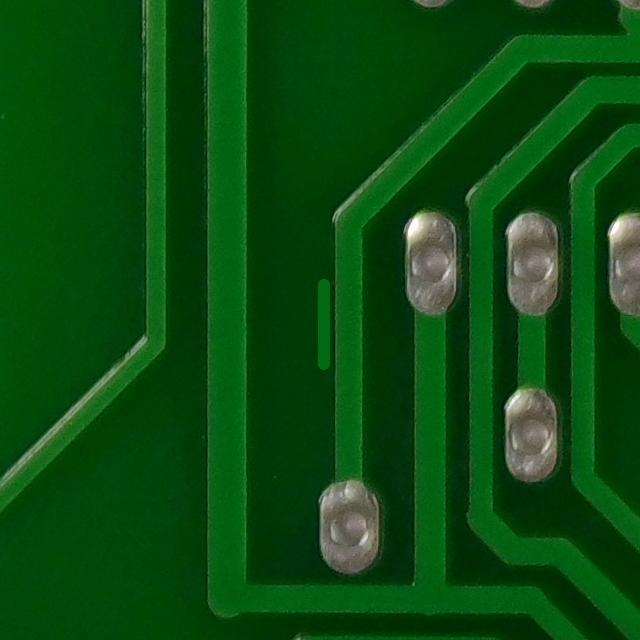spurious_copper: (296, 264, 345, 377)
